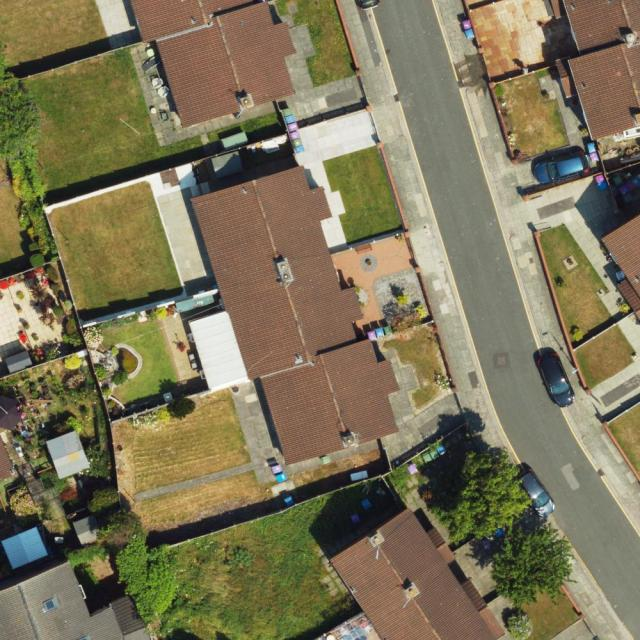roof: (186, 165, 400, 465), (330, 508, 507, 639), (130, 0, 295, 131), (0, 559, 151, 640), (556, 0, 640, 141), (599, 214, 640, 323)
skylight: (42, 594, 60, 618)
